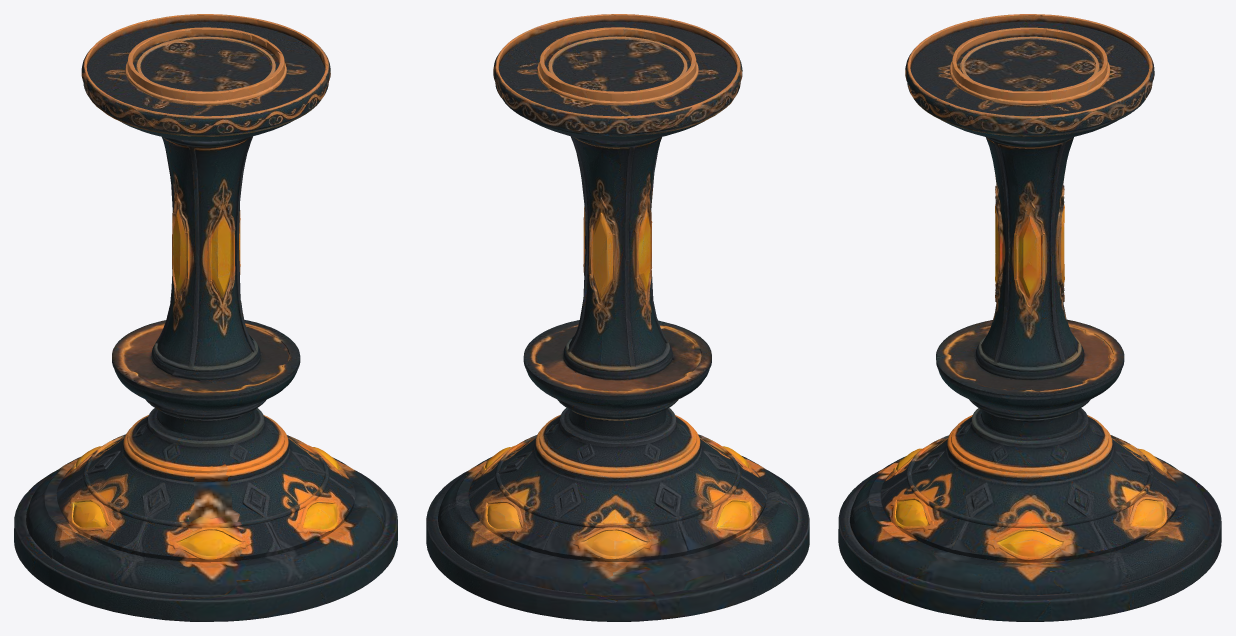
Rendered from ring-stand.glb.
The picture shows the model from 3 angles, left to right: view 1: azimuth 30°, elevation 25°; view 2: azimuth 150°, elevation 25°; view 3: azimuth 270°, elevation 25°; orthographic projection.
Size of the model in its own units: 1.37 by 1.9 by 1.37.
1 material, 1 textured.
